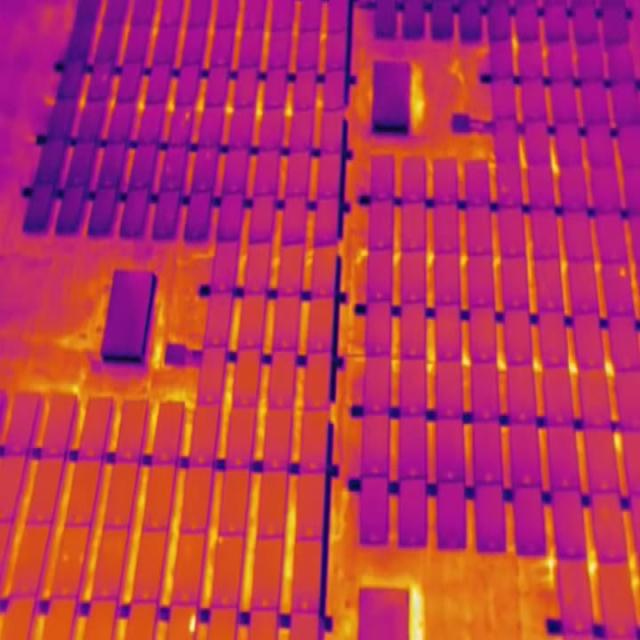Orange-Spots: (188, 613, 196, 633), (619, 266, 626, 277), (218, 536, 224, 544), (186, 112, 190, 119)
